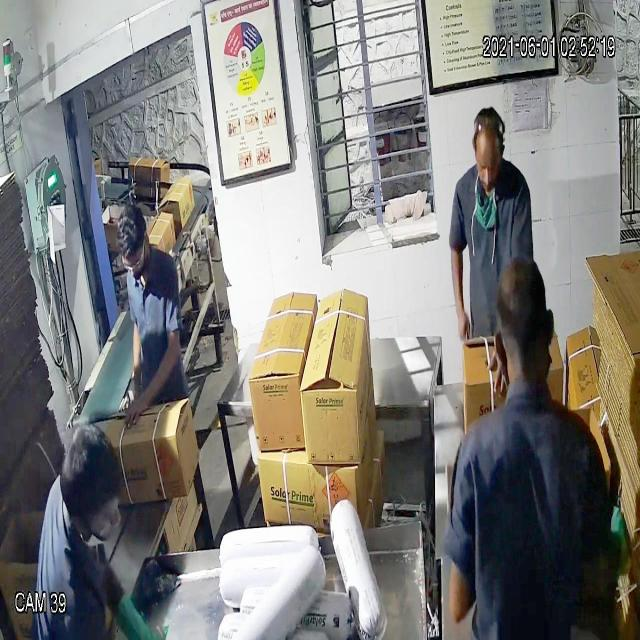glasses: (118, 243, 150, 280)
no-glass: (470, 149, 506, 186)
